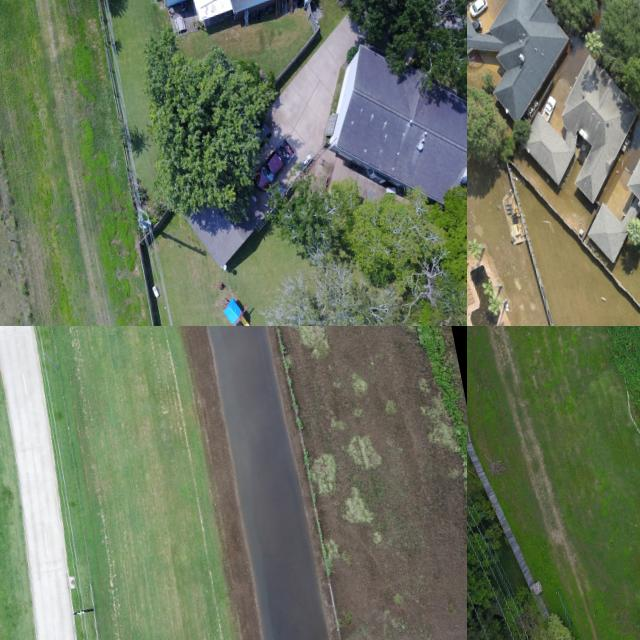fire: (207, 326, 329, 640)
